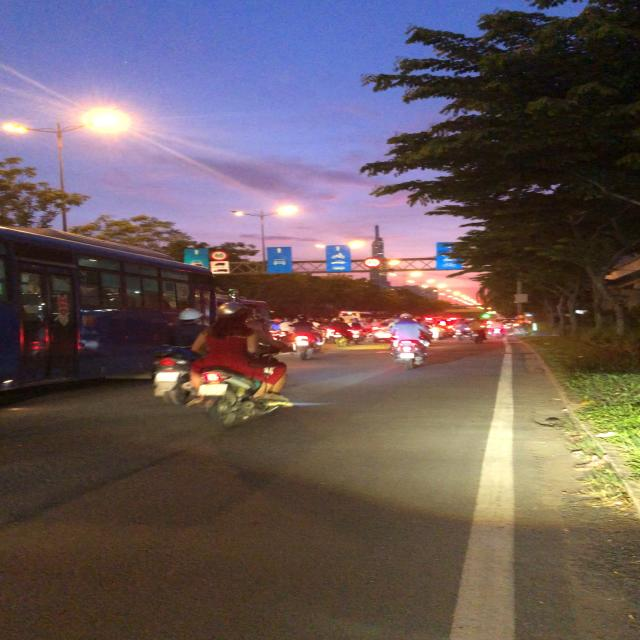Bien bao toc do toi da cho phep: (206, 249, 230, 262)
